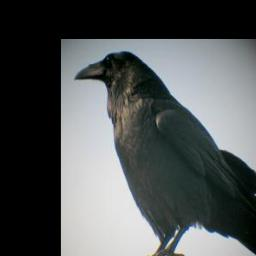Crow: (73, 48, 256, 256)
